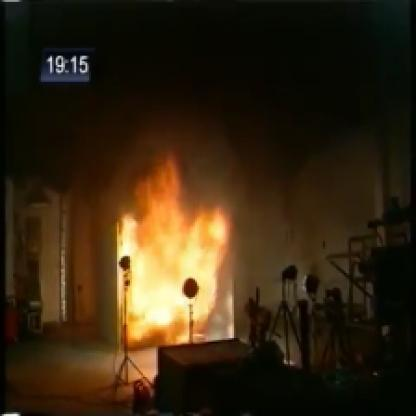fire: (101, 139, 260, 347)
